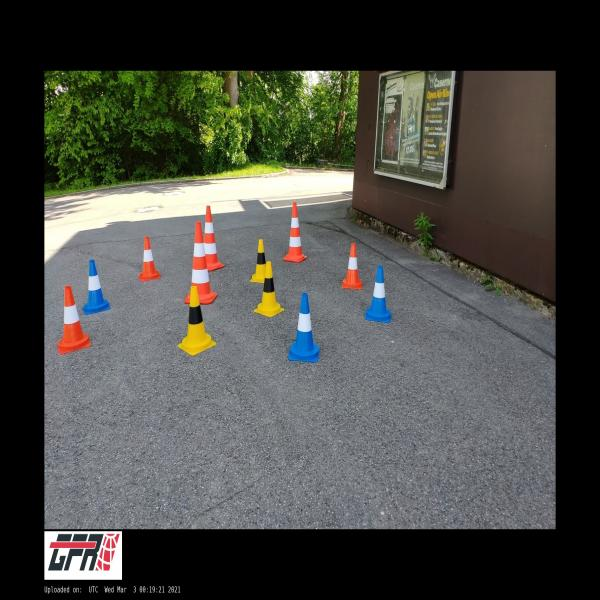blue_cone: (288, 293, 320, 362), (82, 260, 110, 315), (365, 266, 391, 323)
large_orange_cone: (184, 221, 218, 304), (283, 202, 307, 263), (204, 206, 225, 271)
orange_cone: (57, 286, 91, 354), (139, 237, 161, 281), (342, 243, 363, 289)
yellow_cone: (178, 286, 216, 356), (254, 261, 284, 317), (250, 239, 265, 283)
